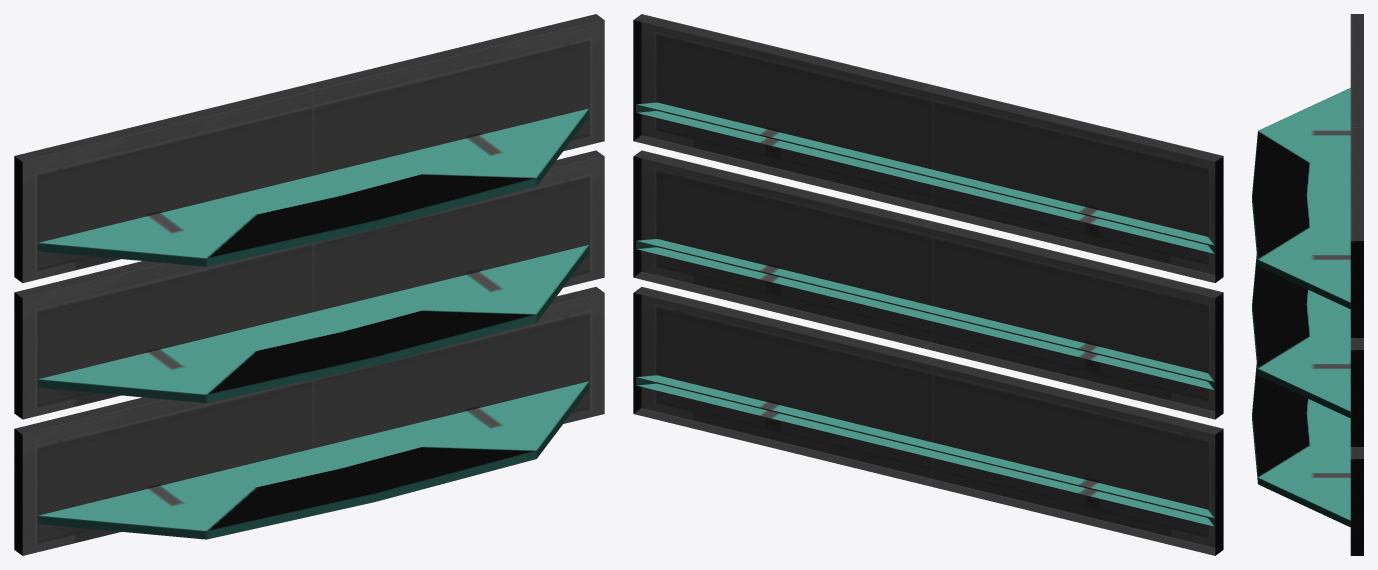
The model's file is officeprop_shelf.FBX.
3 renders of one model, left to right at view 1: azimuth 30°, elevation 25°; view 2: azimuth 150°, elevation 25°; view 3: azimuth 270°, elevation 25°, orthographic. The views are drawn at different scales.
Visible parts, largest first — view 1: officeprop_shelf; view 2: officeprop_shelf; view 3: officeprop_shelf.
Boxes of the visible parts, x1,y1,x2,y2 form: officeprop_shelf: [14, 14, 604, 555]; officeprop_shelf: [633, 14, 1223, 555]; officeprop_shelf: [1252, 14, 1363, 555].
Bounding box in the file's own units: 171 × 111 × 35.56.
